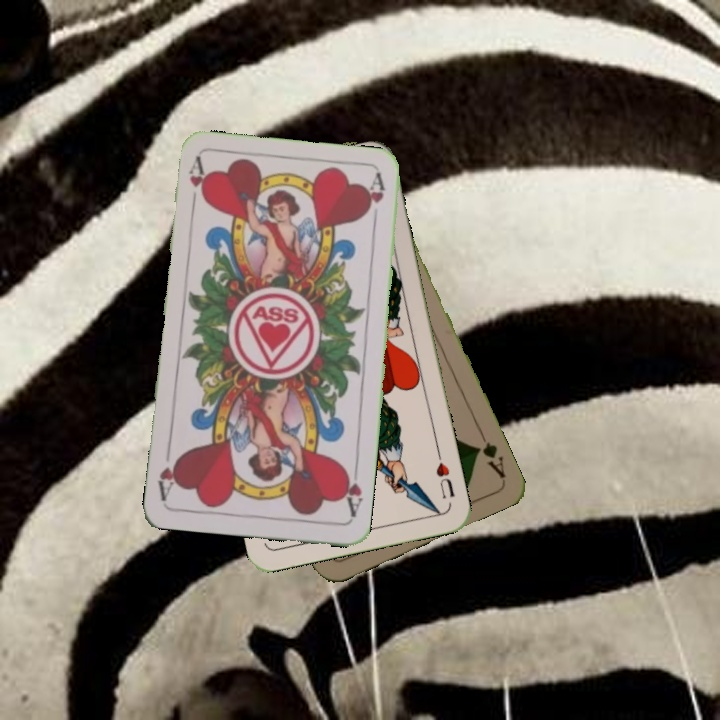GA: (471, 426, 508, 481)
HA: (337, 462, 365, 521), (185, 155, 210, 214)
HU: (432, 448, 458, 502)
